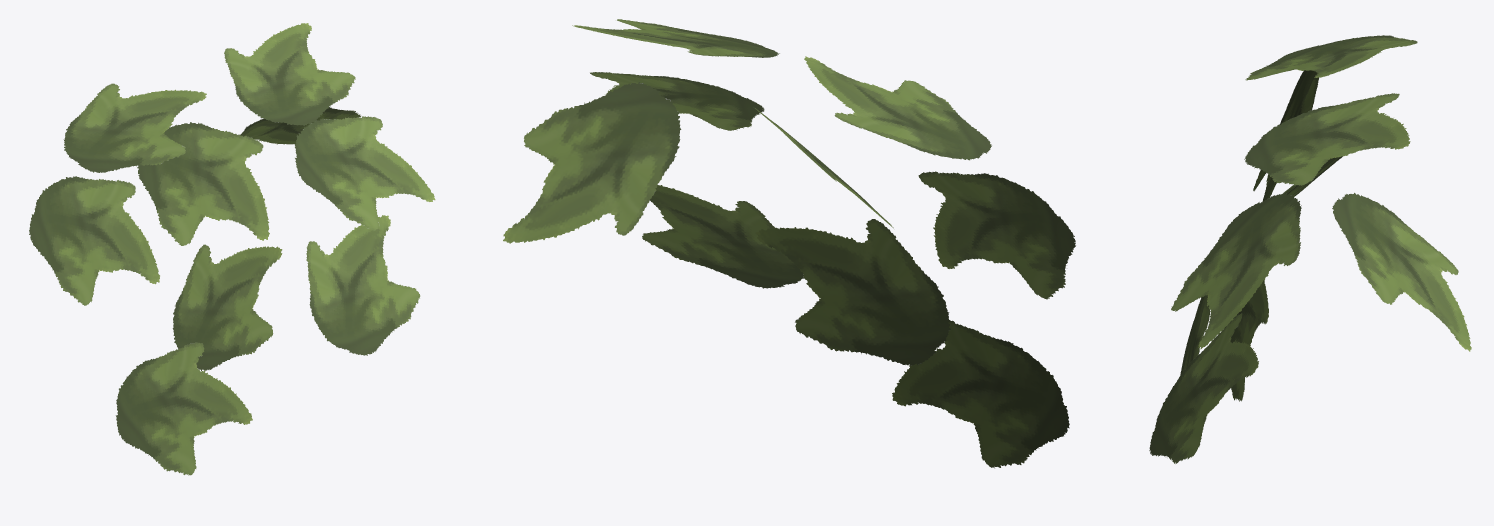
File: foliage.fbx
3 renders of one model, left to right at view 1: azimuth 30°, elevation 25°; view 2: azimuth 150°, elevation 25°; view 3: azimuth 270°, elevation 25°, orthographic. The views are drawn at different scales.
Visible parts, largest first — view 1: Foliage 1.001; view 2: Foliage 1.001; view 3: Foliage 1.001.
Boxes of the visible parts, x1,y1,x2,y2 form: Foliage 1.001: (29,23,435,475); Foliage 1.001: (503,19,1075,468); Foliage 1.001: (1149,35,1471,463).
Bounding box in the file's own units: 109 × 97.62 × 63.3.
1 material, 1 textured.
